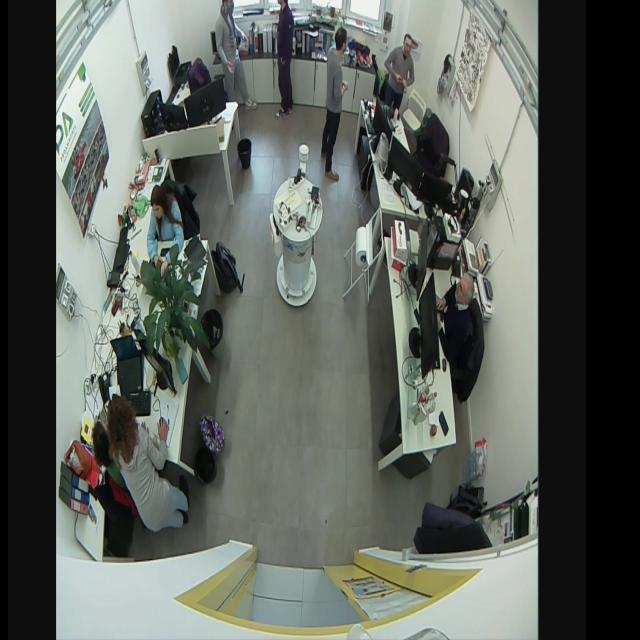Persona: (106, 387, 191, 534), (319, 24, 354, 184), (213, 0, 256, 113), (434, 270, 479, 370), (144, 182, 187, 277), (270, 0, 303, 123), (381, 31, 418, 104)
